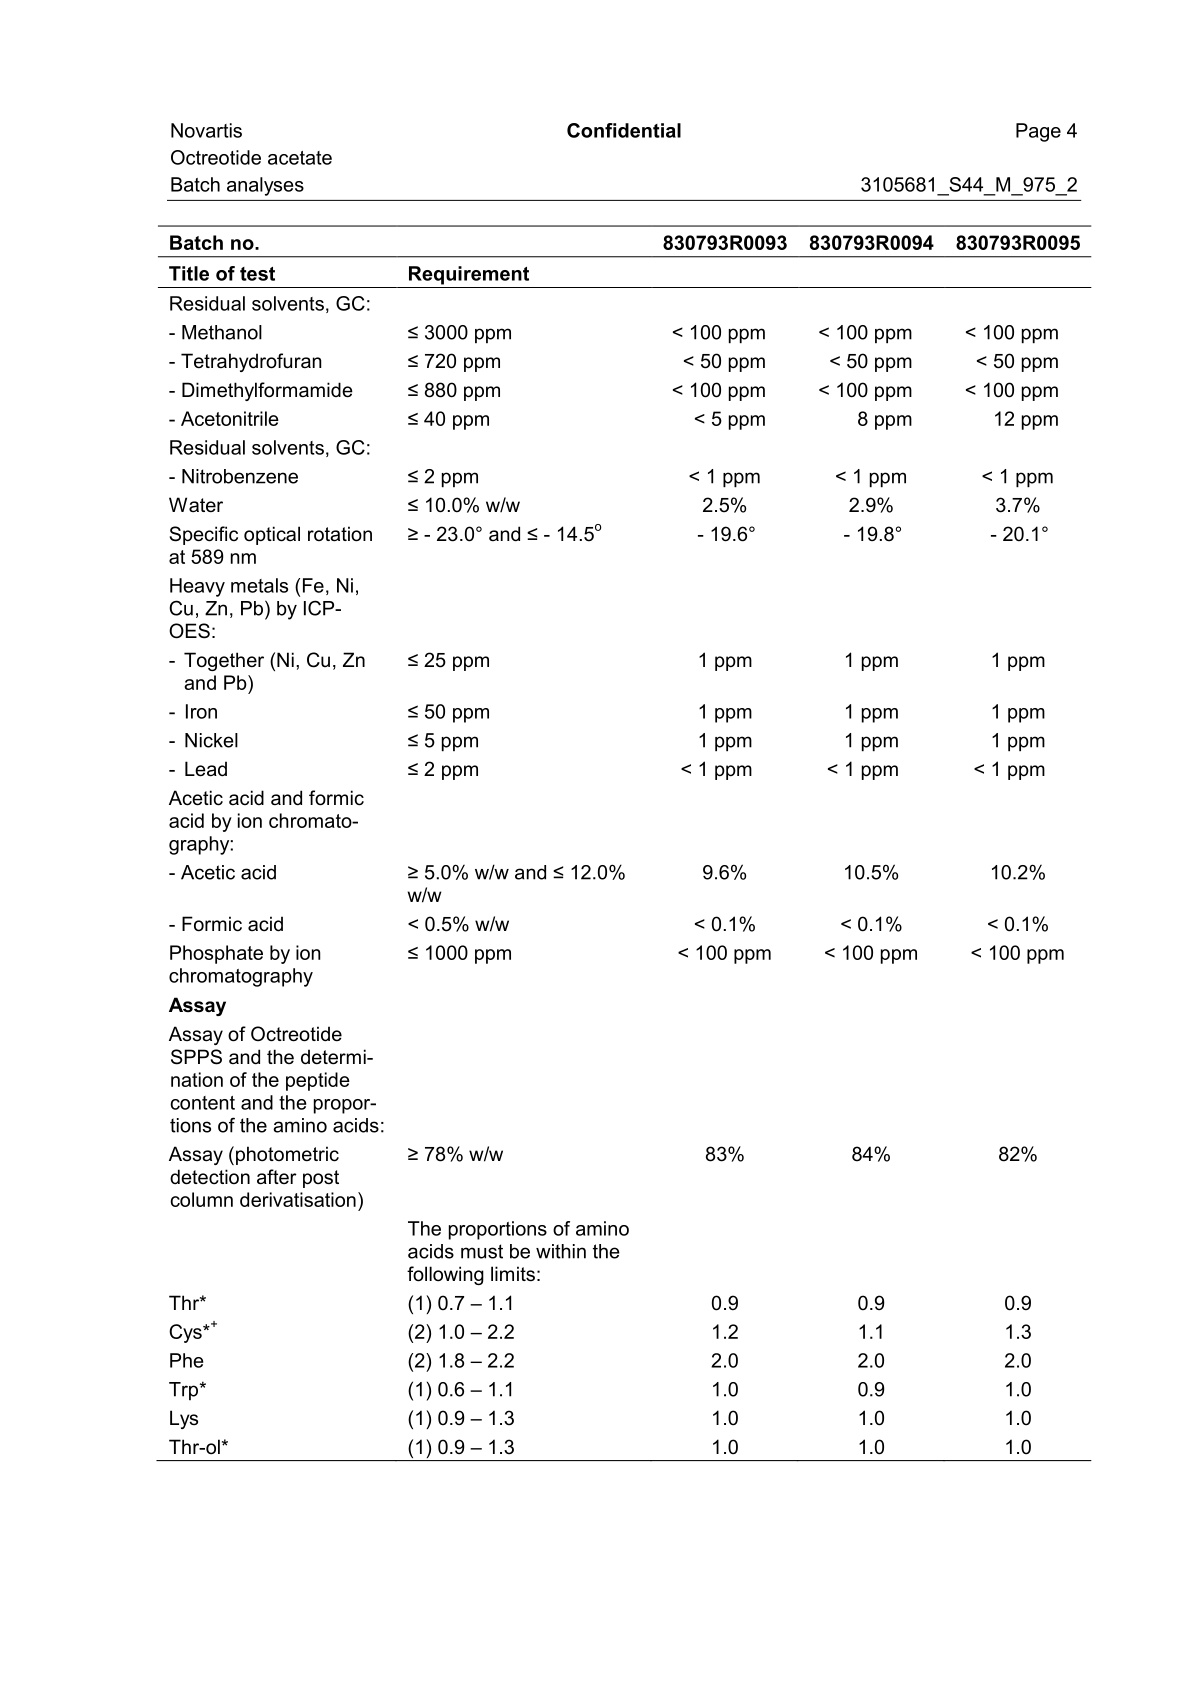partial_lined: (157, 223, 1092, 1462)
